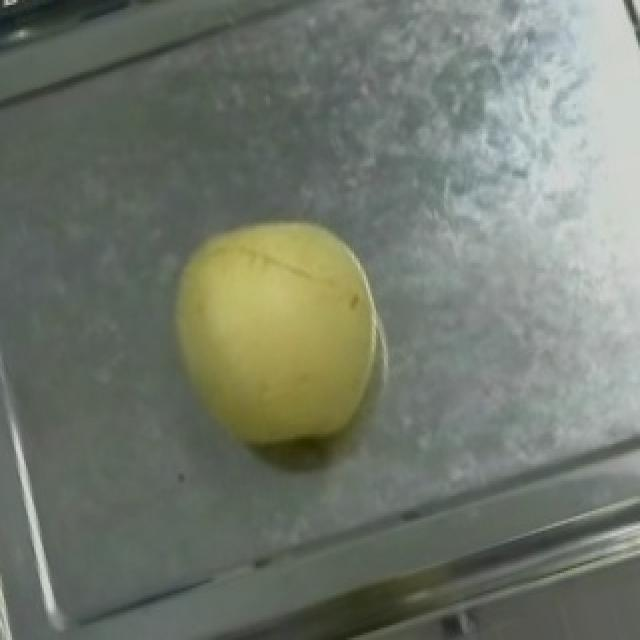Fruit: (132, 176, 422, 489)
